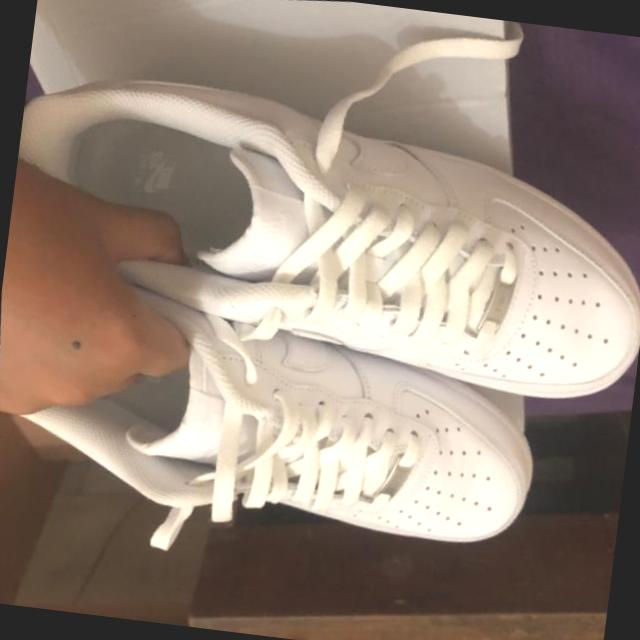nike_original_airforce: (0, 21, 640, 456), (0, 240, 565, 595)
